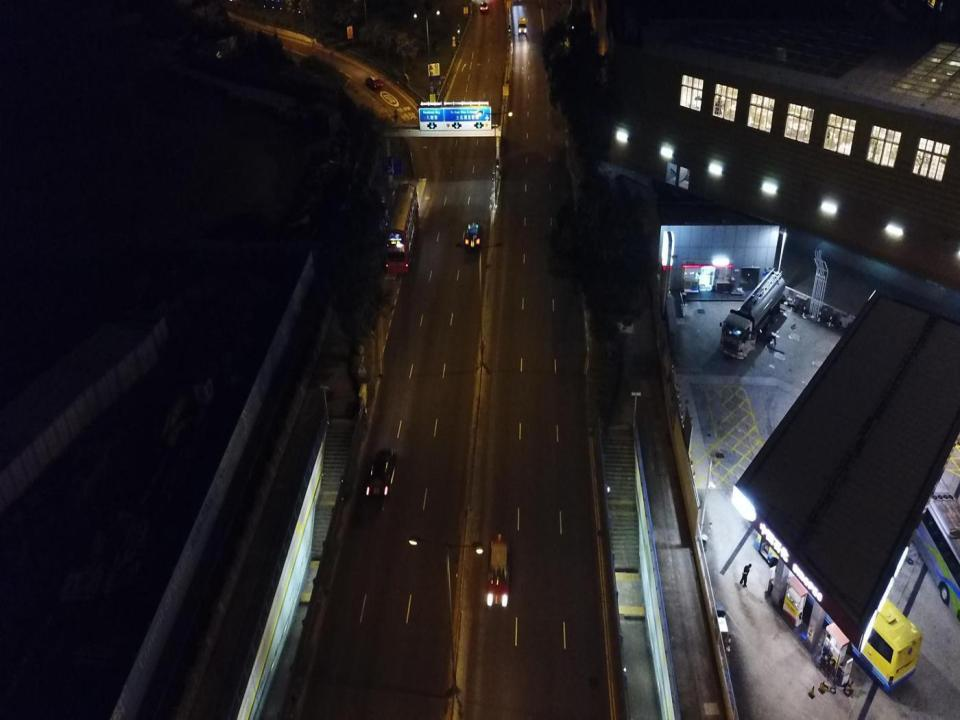bus: (756, 509, 922, 693), (887, 428, 960, 626), (385, 181, 420, 271)
car: (485, 530, 511, 612), (364, 448, 395, 502), (464, 222, 482, 251), (365, 75, 382, 89), (479, 0, 489, 13)
truck: (718, 265, 786, 360)
van: (517, 16, 528, 36)
